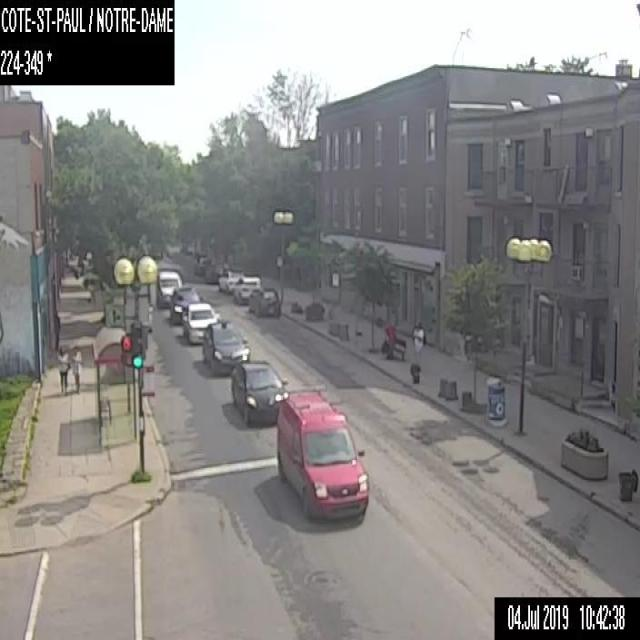pedestrian: (56, 344, 70, 393), (70, 344, 82, 393), (412, 318, 423, 366), (381, 322, 395, 359)
vehicle: (275, 389, 369, 525), (230, 359, 287, 426), (202, 319, 250, 375), (181, 302, 219, 342), (168, 285, 203, 323), (247, 286, 281, 317), (156, 270, 181, 306), (232, 276, 260, 303), (218, 270, 243, 292), (194, 256, 210, 274)
